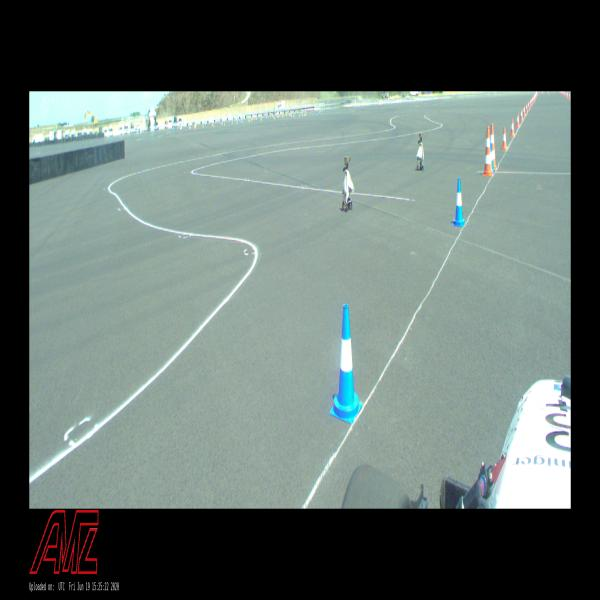blue_cone: (330, 304, 362, 424), (452, 178, 466, 226), (490, 143, 495, 173)
large_orange_cone: (482, 126, 494, 176), (490, 124, 498, 171)
orange_cone: (502, 128, 508, 149), (510, 119, 515, 136), (516, 114, 520, 127), (520, 108, 524, 121), (523, 106, 526, 116), (526, 103, 528, 112), (530, 99, 532, 107), (528, 102, 530, 109)
